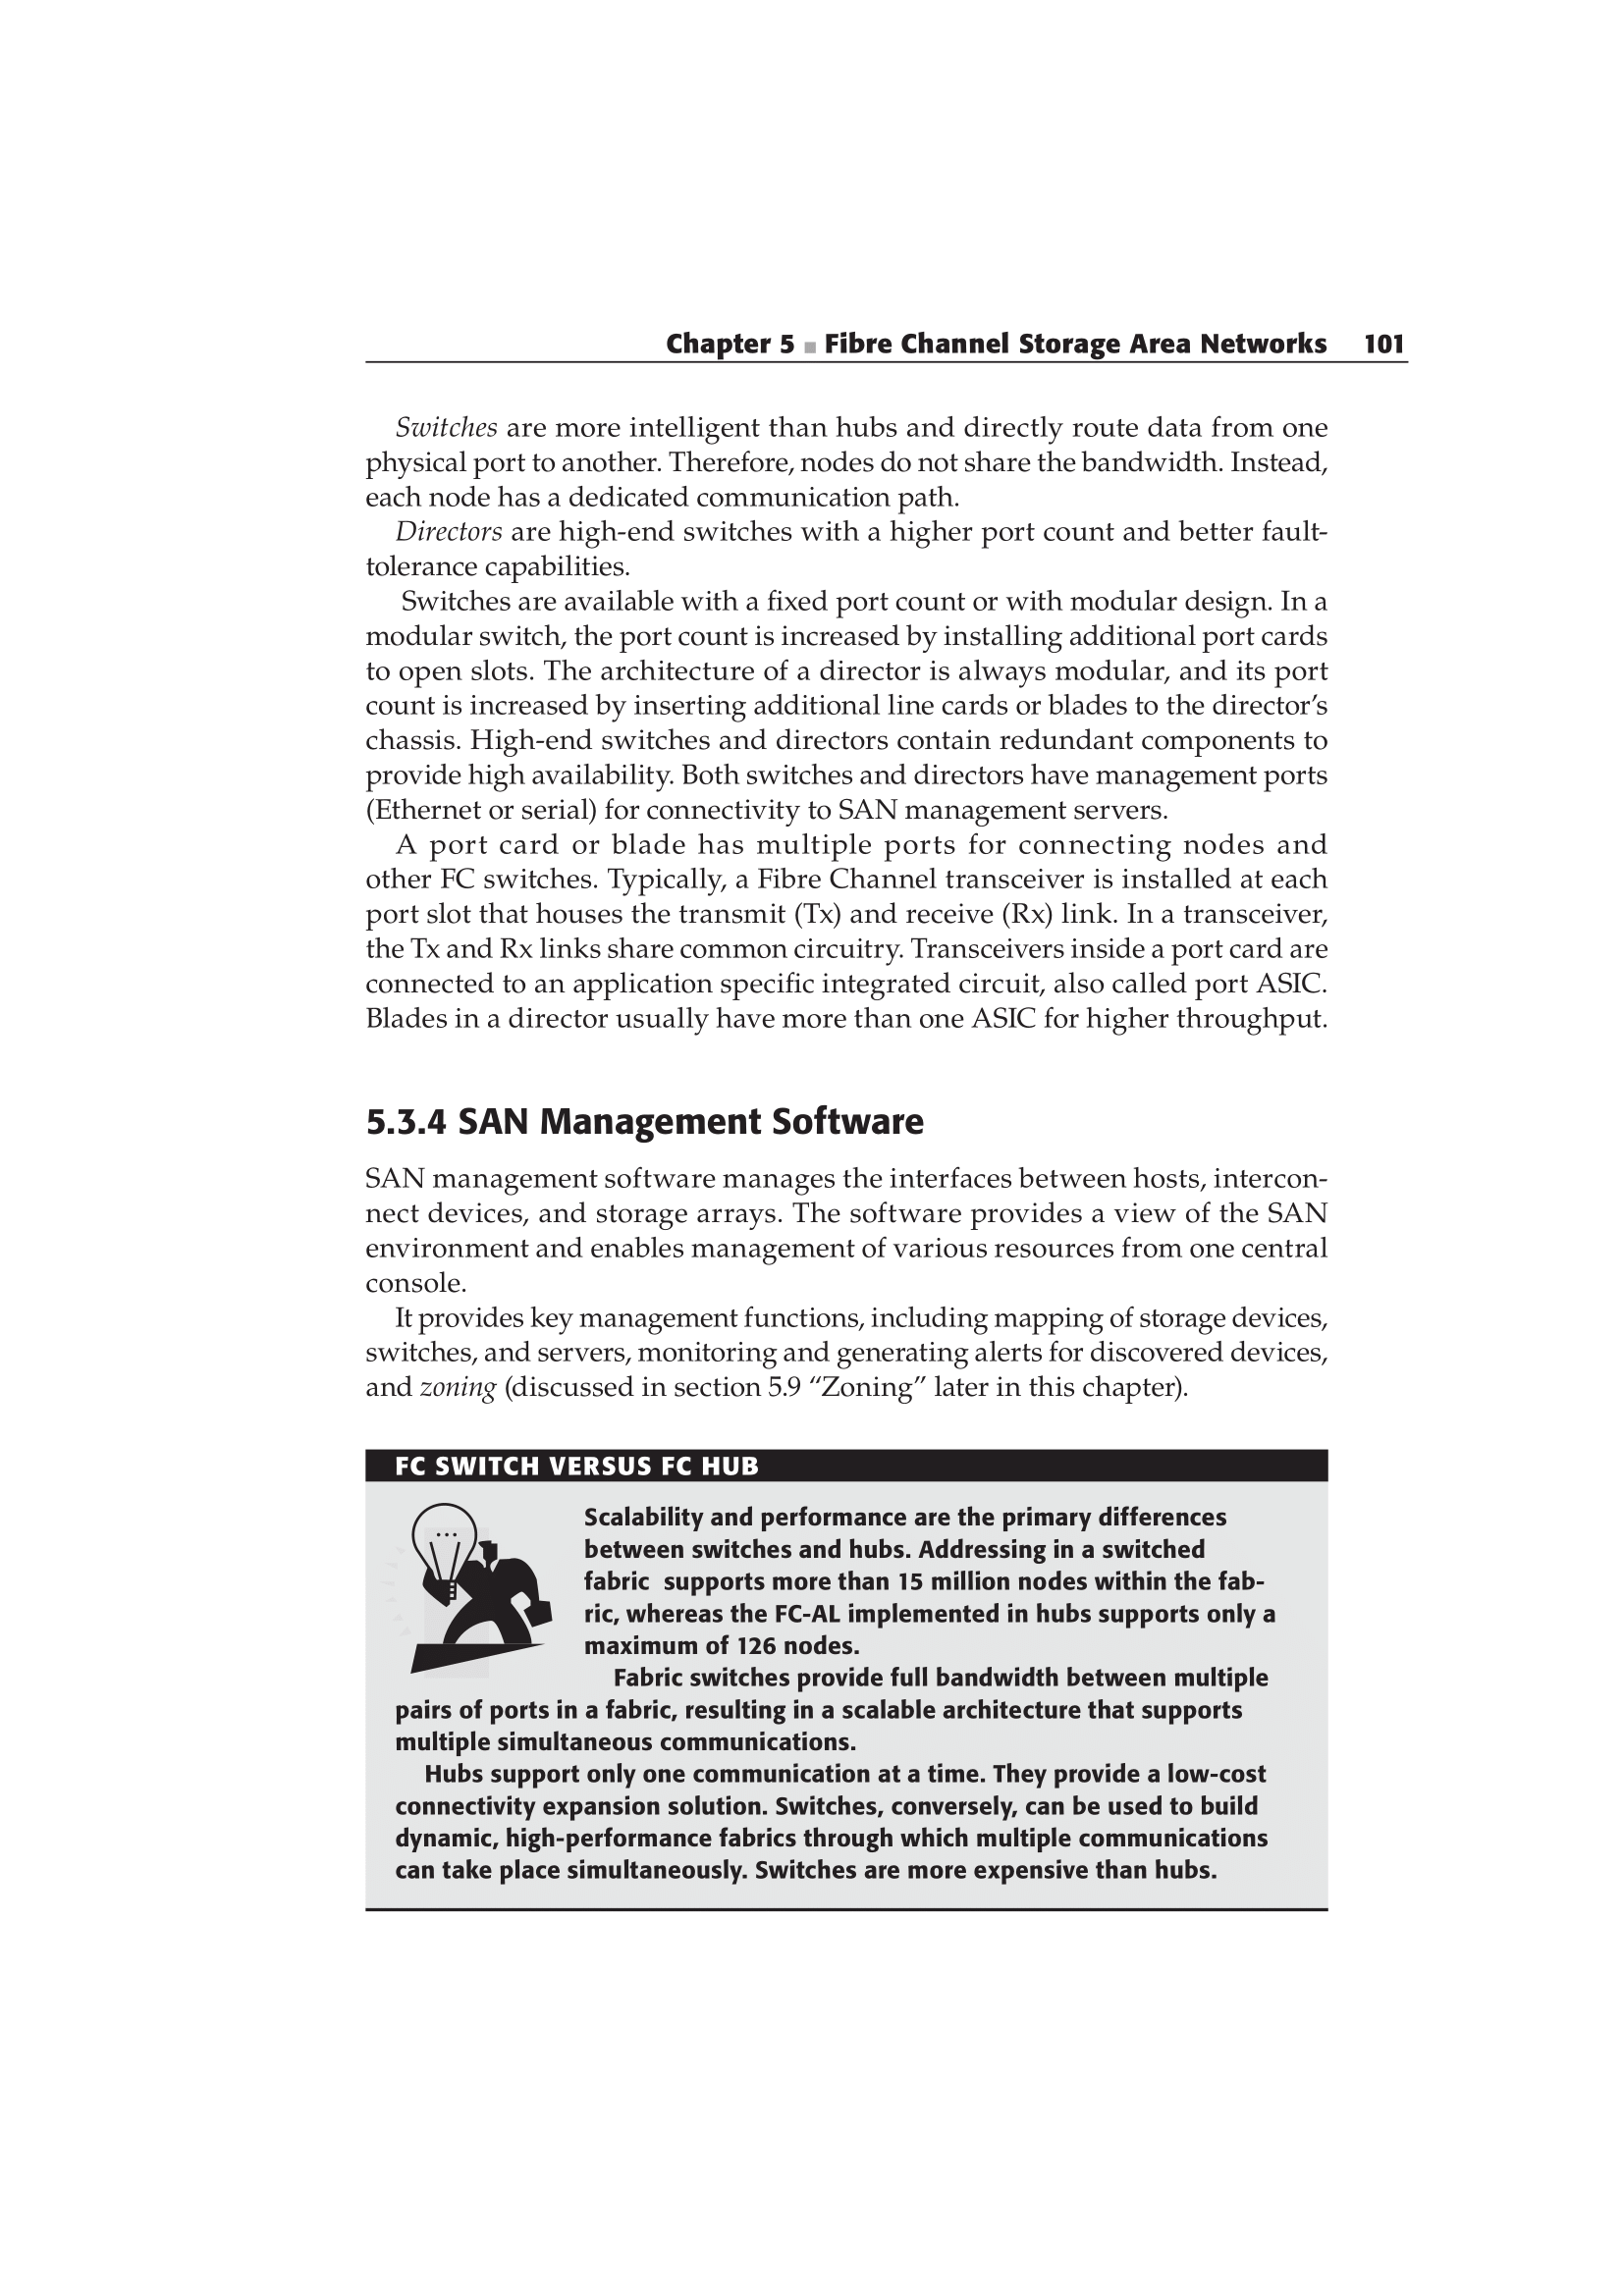Image: (397, 1492, 566, 1680)
Paragraph: (343, 588, 1333, 830), (357, 827, 1333, 1041), (383, 1680, 1288, 1891), (348, 402, 1328, 585), (357, 1146, 1347, 1297), (566, 1489, 1302, 1666), (371, 1287, 1351, 1415), (648, 291, 1430, 370), (365, 1109, 954, 1150)
